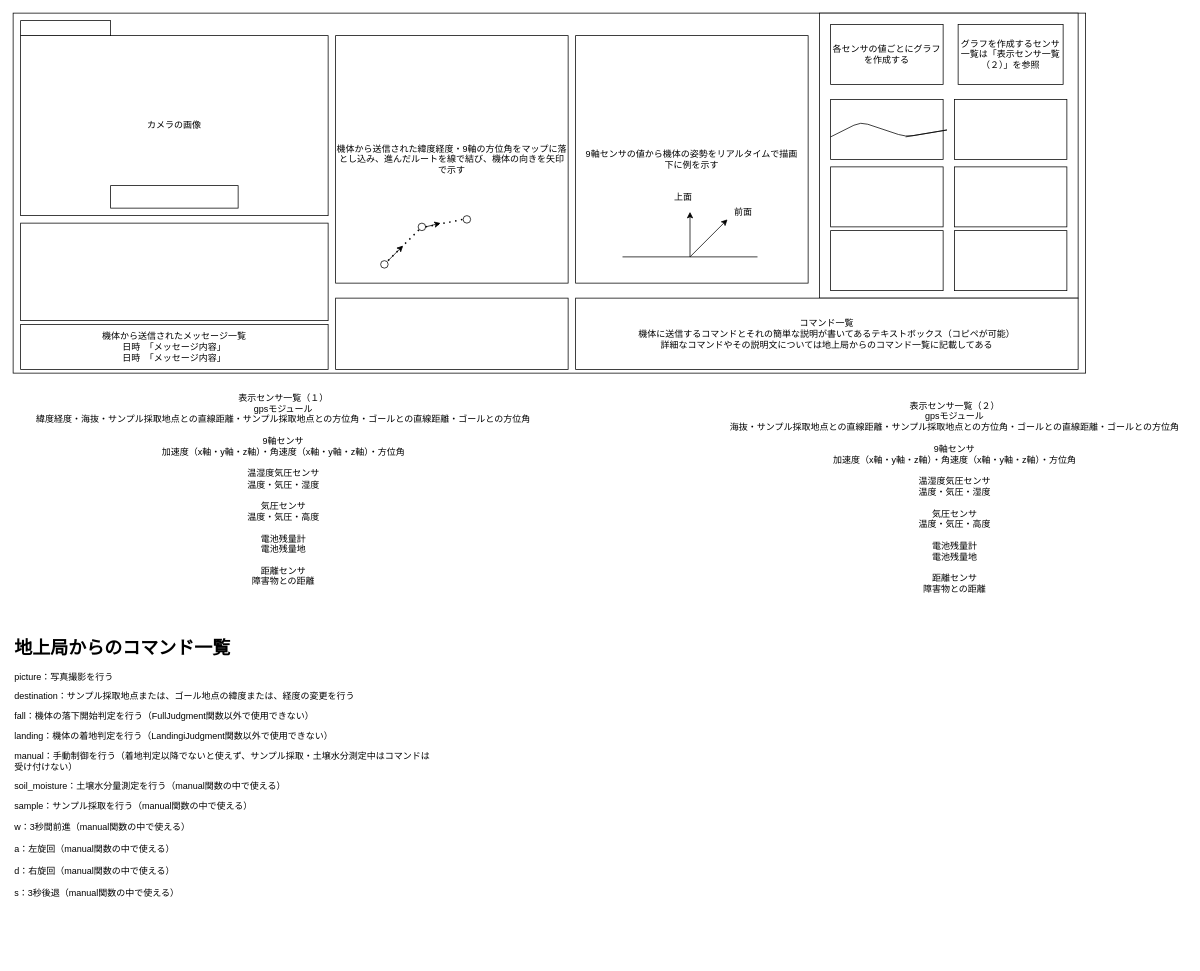
Some shapes in this 1200 by 971 pixel diagram are drawn without their labels. Each missing label, with the box of its shape:
◀ 画像の切り替えボタン ▶: (110, 185, 238, 208)
撮影日時: (20, 20, 111, 36)
機体から送られてきた最新のセンサ値 (表示例)日時「メッセージ内容」 ここに表示するセンサ値一覧は「表示センサ一覧（１）」を参照: (20, 222, 328, 321)
機体に送信するコマンド入力ボックス: (335, 297, 568, 369)
